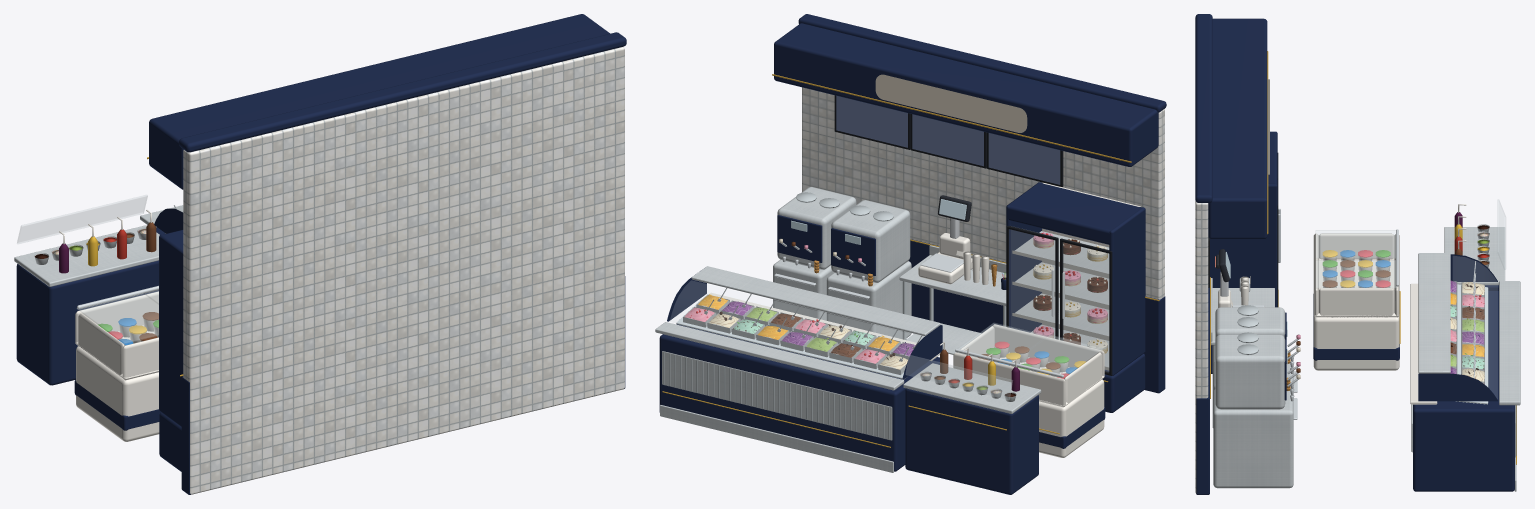
The model's file is sector-sorvetes_T3.fbx.
3 views of the same model, side by side, from view 1: azimuth 30°, elevation 25°; view 2: azimuth 150°, elevation 25°; view 3: azimuth 270°, elevation 25° (orthographic). The views are drawn at different scales.
Parts seen in each view (by area): view 1: Body; view 2: Body; view 3: Body.
Boxes of the visible parts, left/top/right/bottom form: Body: left=14, top=14, right=626, bottom=494; Body: left=655, top=14, right=1166, bottom=494; Body: left=1195, top=14, right=1520, bottom=494.
Bounding box in the file's own units: 4.04 × 3.08 × 3.03.
